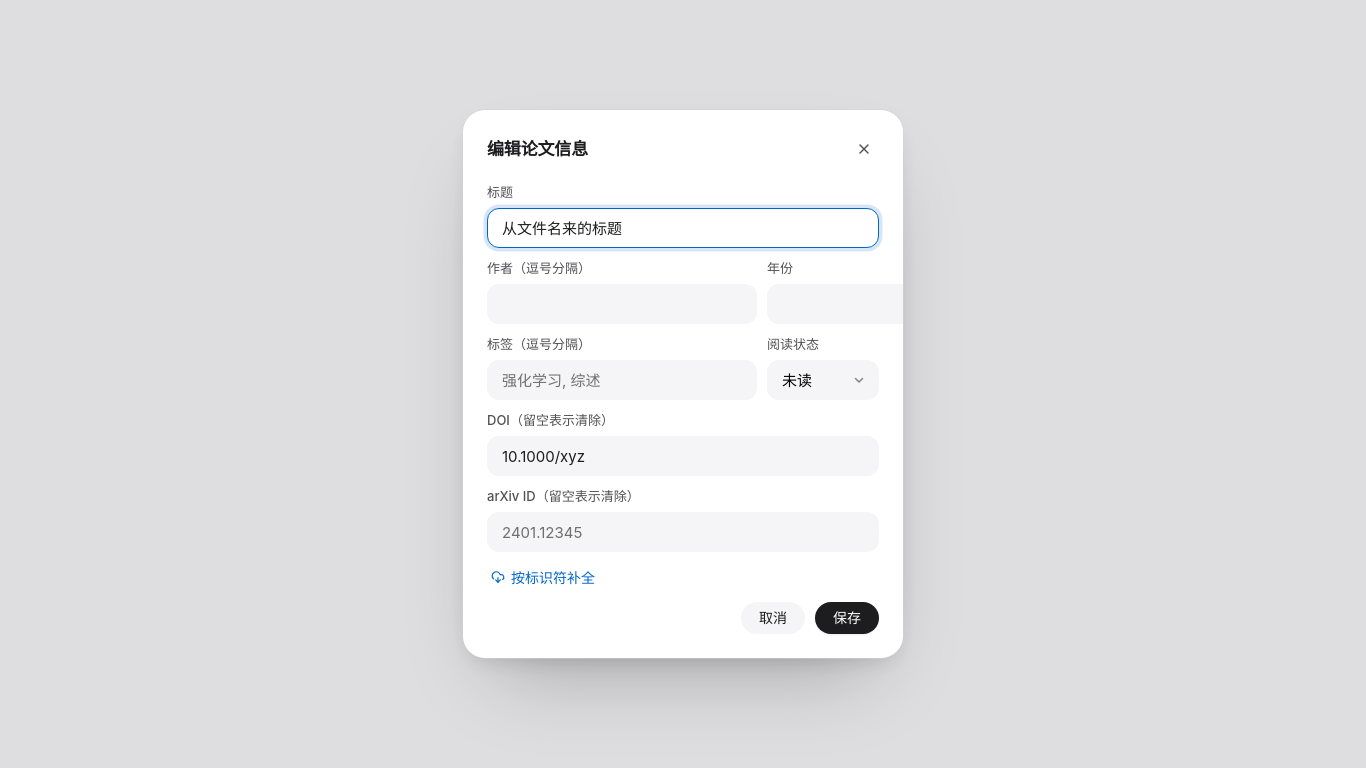
Test: EditPaperDialog registry lookup › fills only the empty fields and says which ones
Click the button "按标识符补全".
click(543, 577)  # box 487,562 -> 599,592
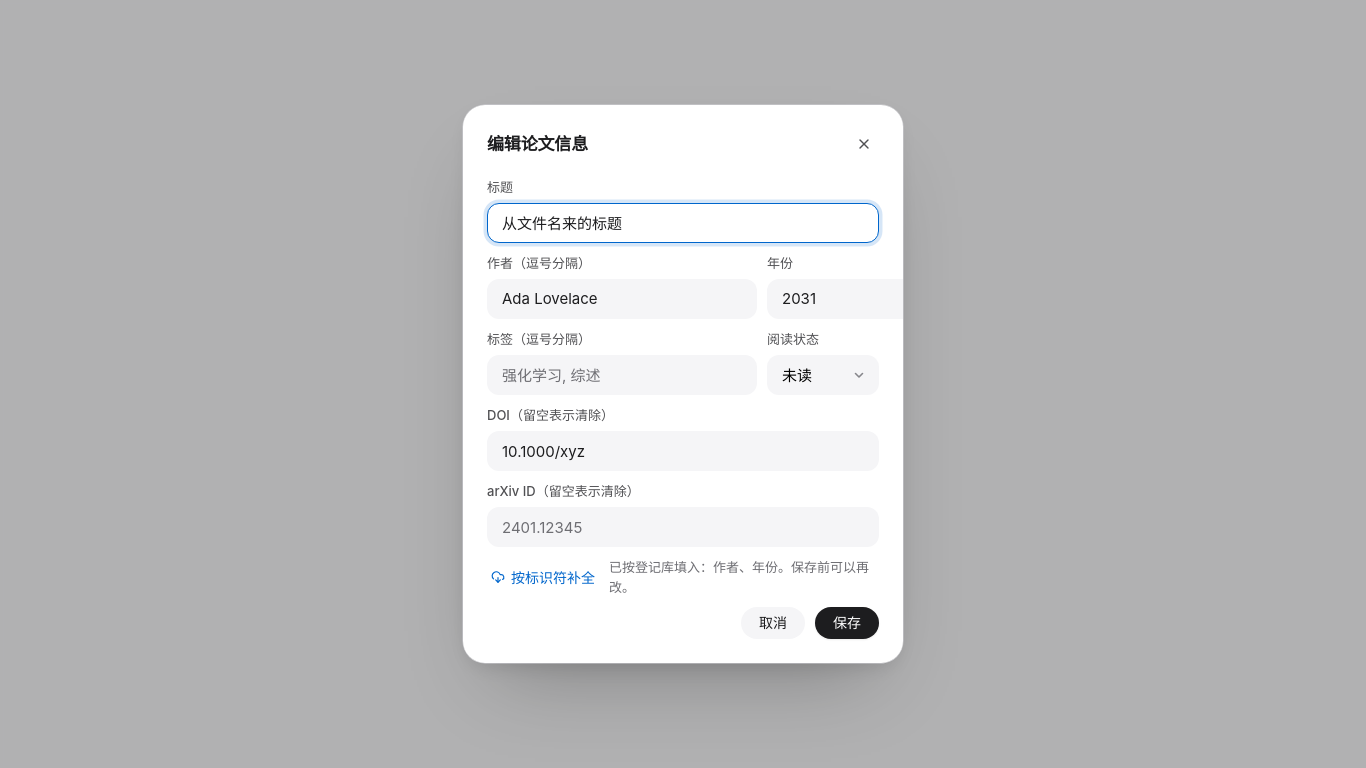
Expected: the field labelled "标题" holds "从文件名来的标题", 487,203 -> 879,243
Now the message shows "作者、年份", box 609,559 -> 869,595
Now the field labelled "作者（逗号分隔）" holds "Ada Lovelace", box 487,279 -> 757,319
